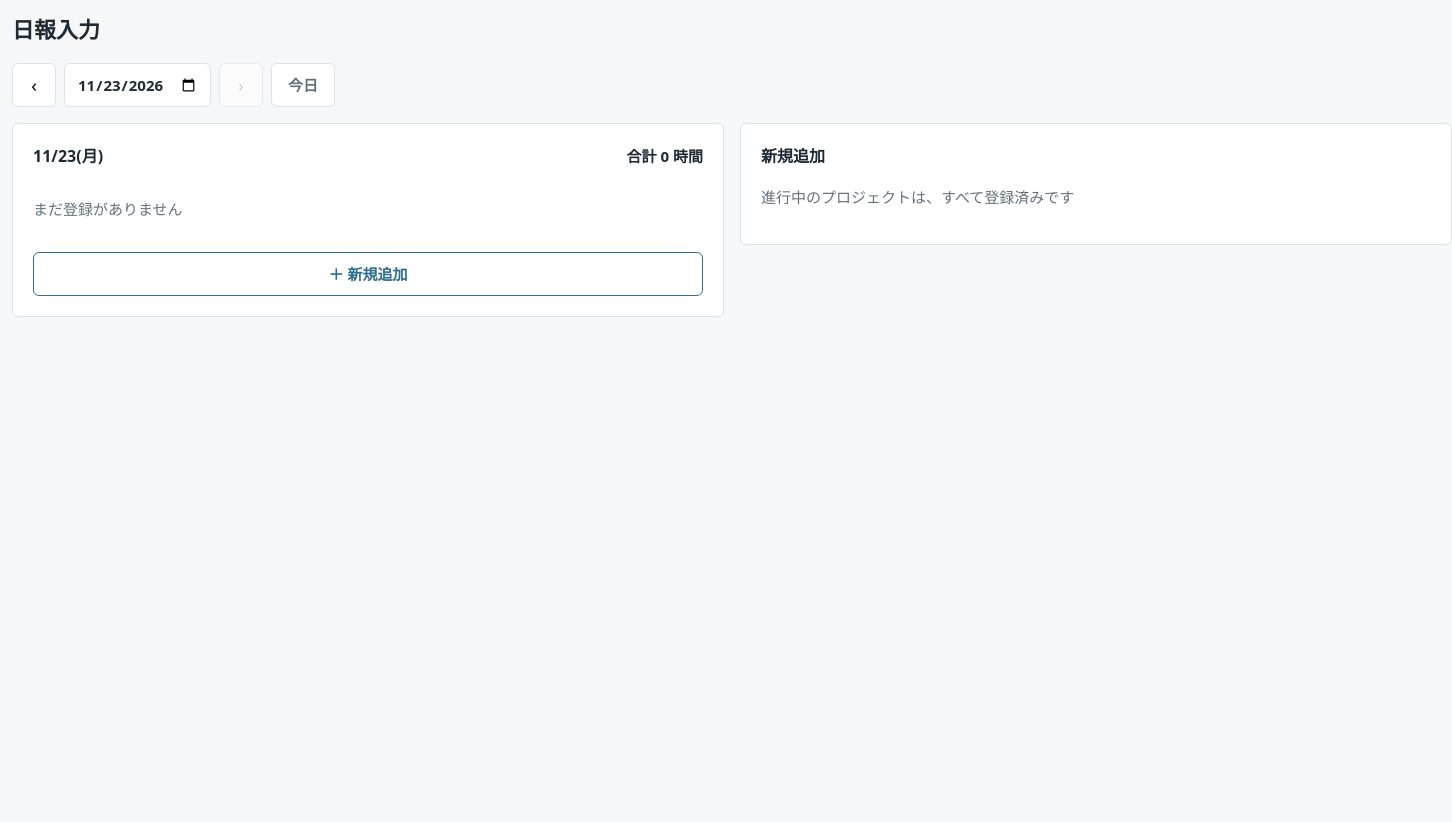
it: 日付 › 日報を出していない過去の日を選んで、追加できる
日付の欄はカレンダーから選ぶので、選び終わった値が一度に入る形で試す
Type "2026-11-02" into the date field named "日付".
click(138, 85); type("2026-11-02")  # box x1=64 y1=63 x2=211 y2=107
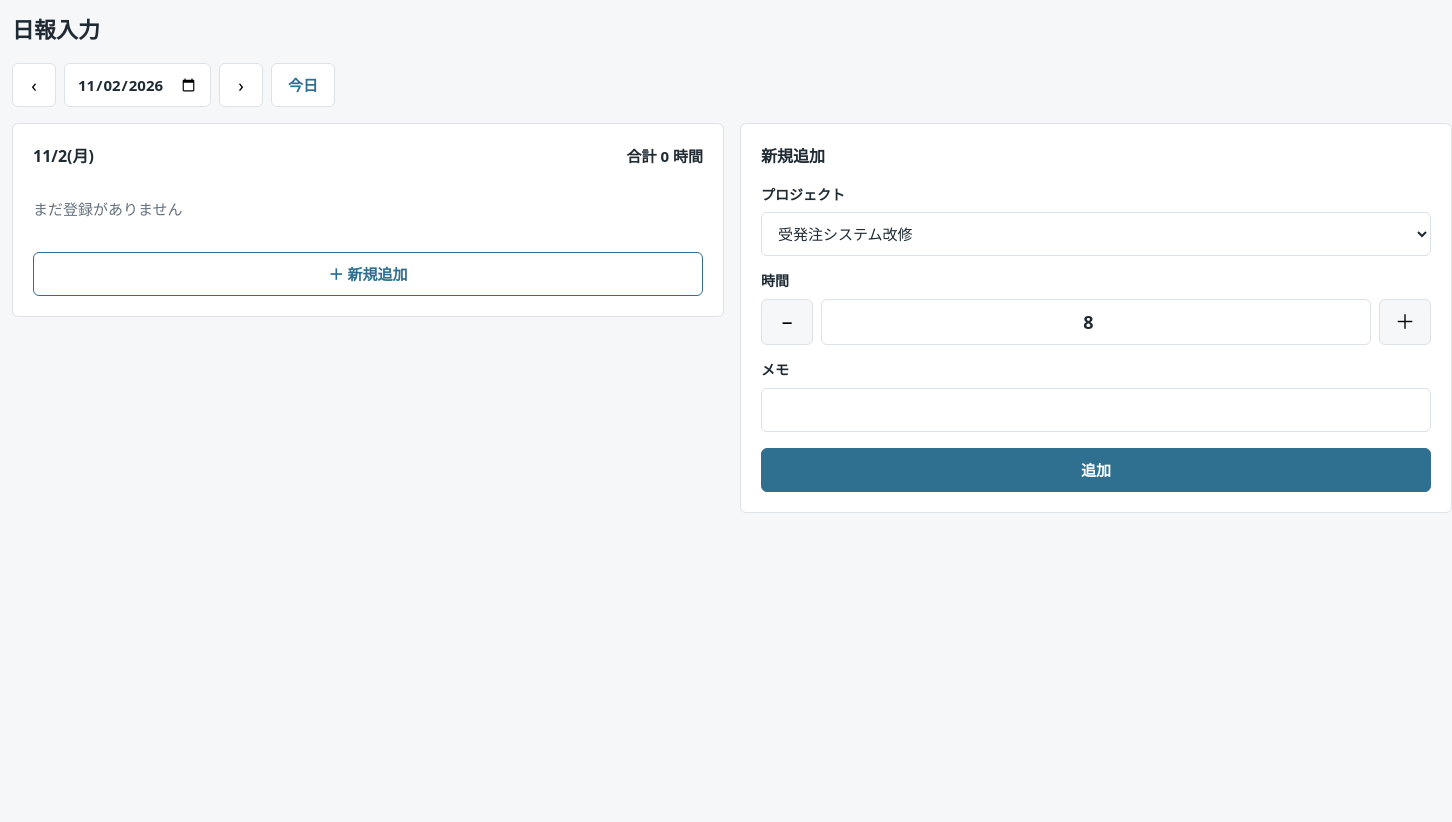
Click the button "追加".
click(1096, 470)  # box x1=761 y1=448 x2=1431 y2=492
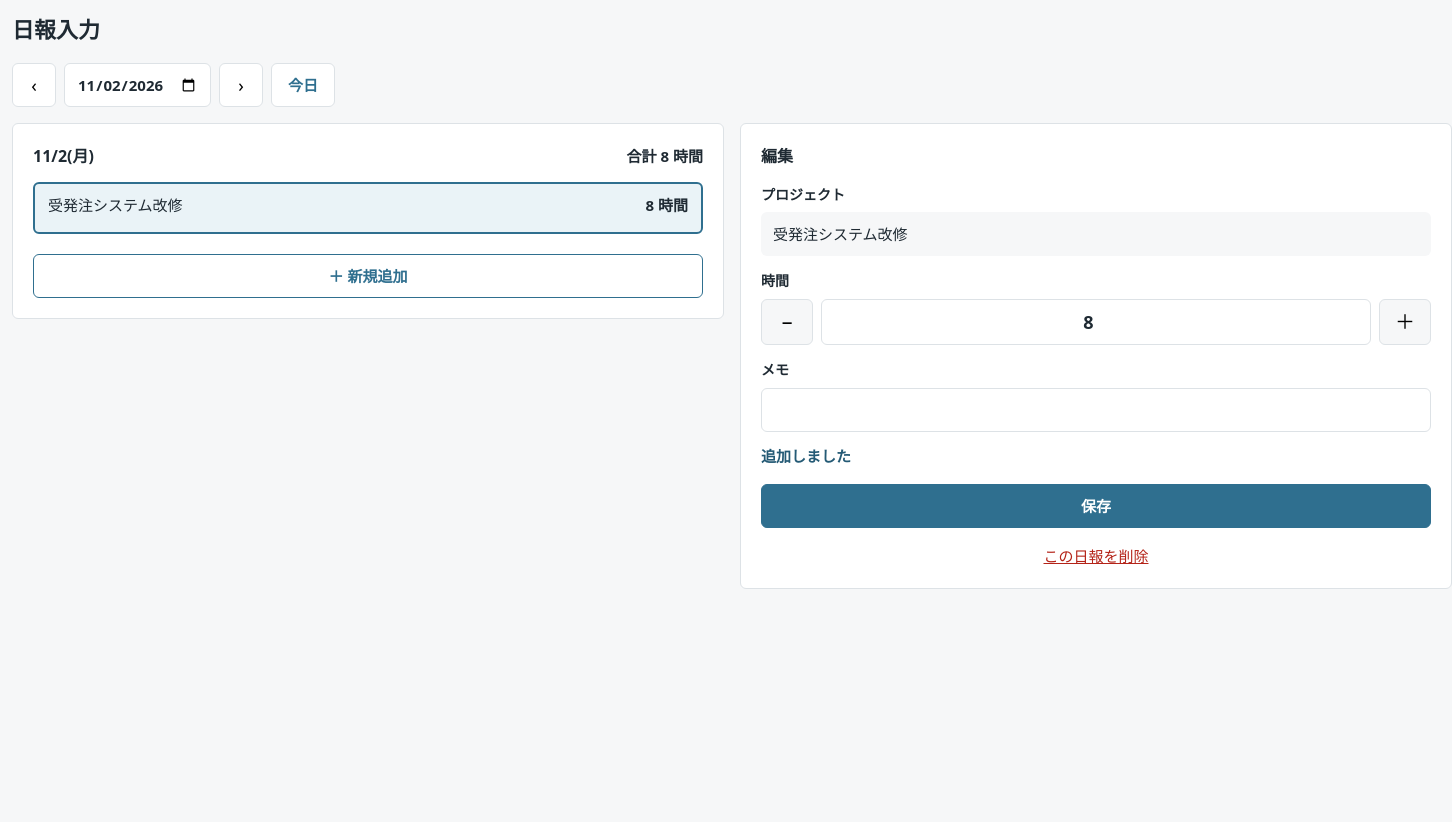
Expected: the text "合計 8 時間" is shown, x1=627 y1=144 x2=703 y2=168
